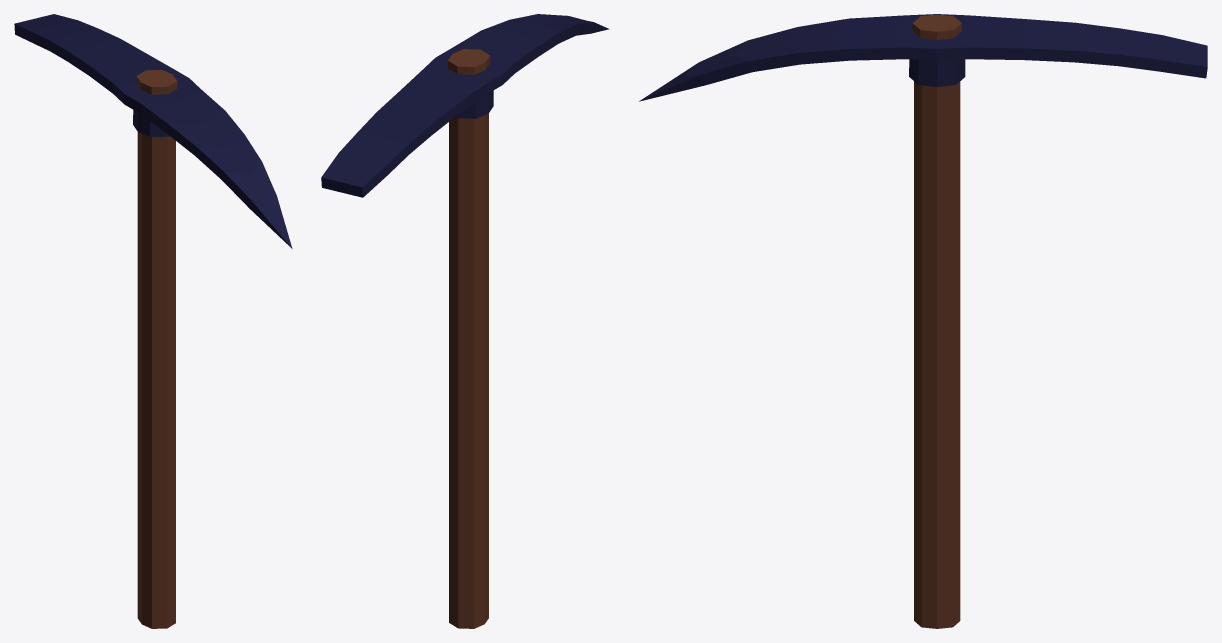
The model's file is pickaxe.fbx.
3 views of the same model, side by side, from view 1: azimuth 30°, elevation 25°; view 2: azimuth 150°, elevation 25°; view 3: azimuth 270°, elevation 25° (orthographic). The views are drawn at different scales.
Visible parts, largest first — view 1: Cube; view 2: Cube; view 3: Cube.
Part boxes in pixels (bbox=[...]): Cube: bbox=[14, 14, 292, 628]; Cube: bbox=[321, 14, 609, 628]; Cube: bbox=[639, 14, 1207, 628].
Bounding box in the file's own units: 128 × 1020 × 880.
